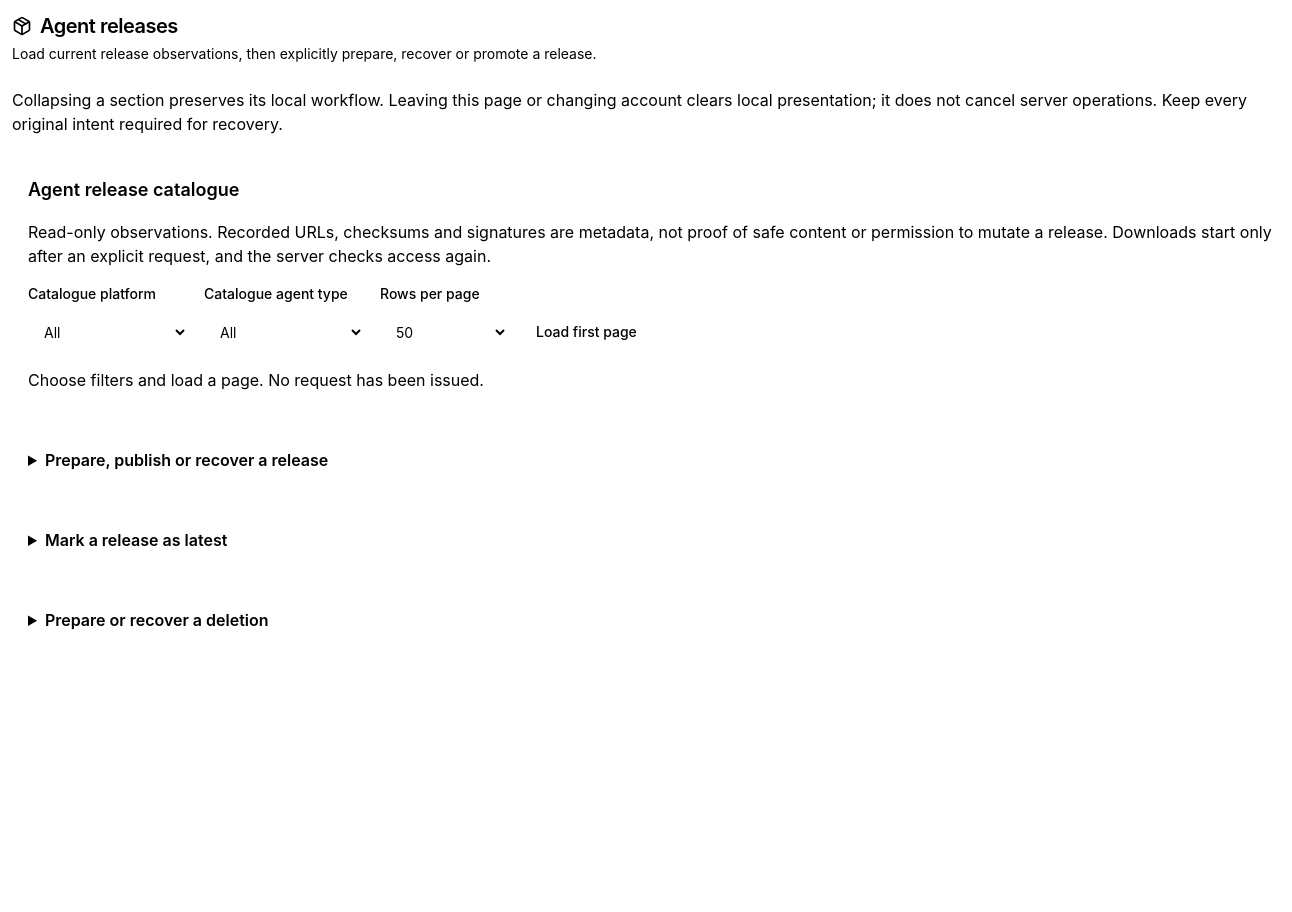
loads the real bounded catalogue only on deliberate click without invoking retired APIs
Click the button "Load first page". click: (586, 332)
box: [524,312,649,352]
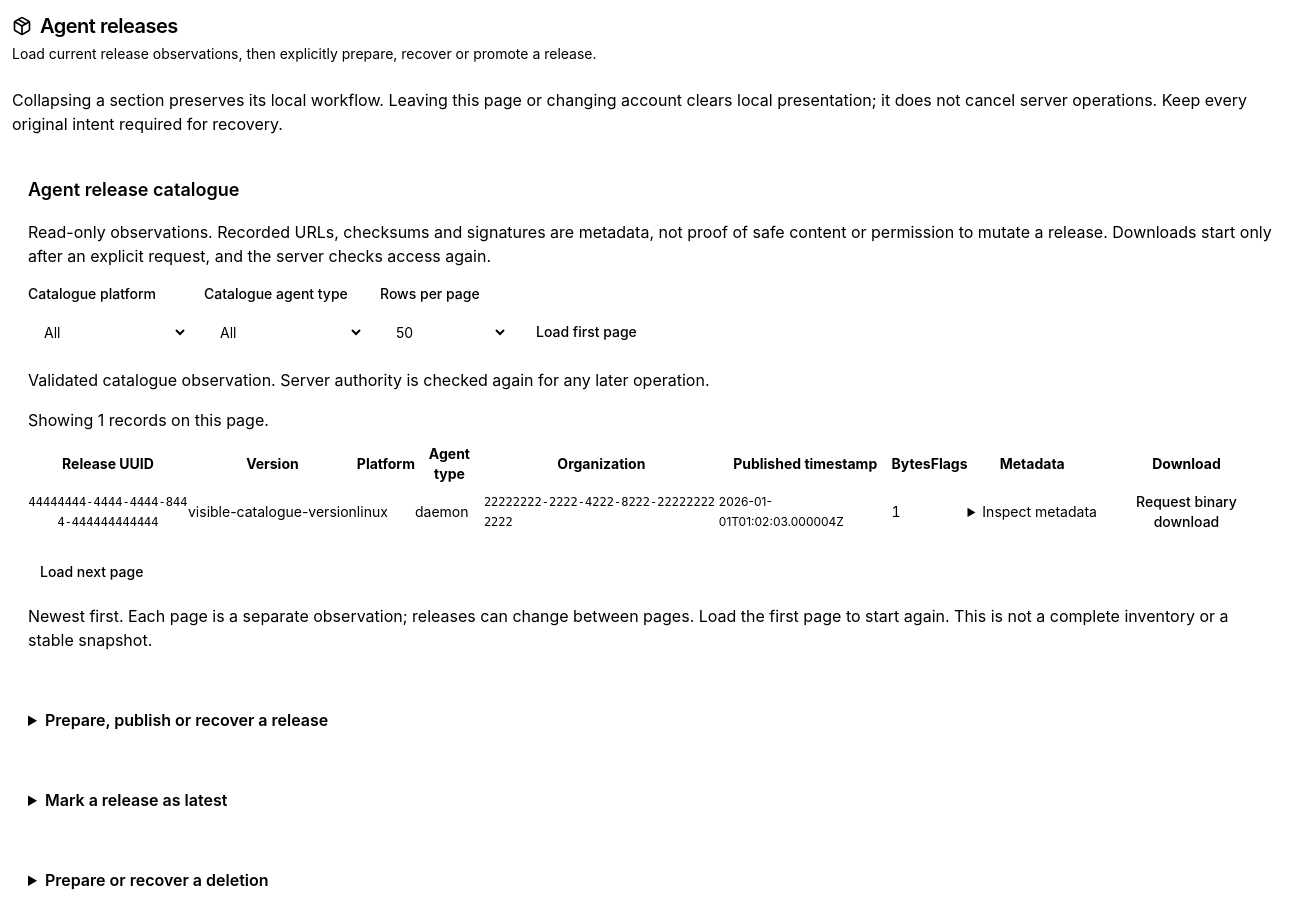
Now the text "visible-catalogue-version" is shown, box [188,484,357,540]
